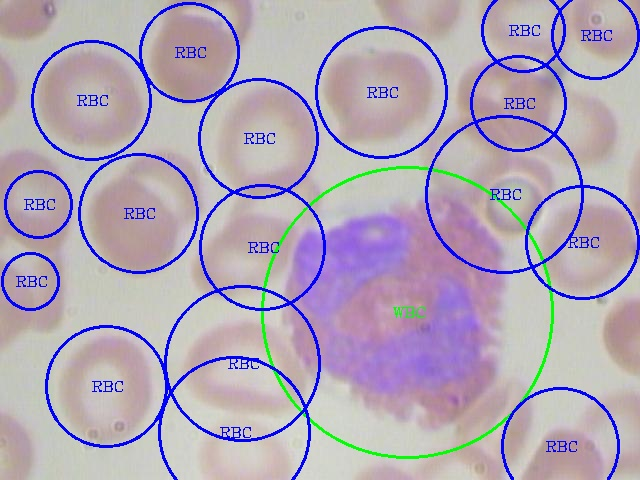RBC: (176, 311, 310, 419), (207, 76, 325, 197), (48, 322, 164, 445), (316, 37, 440, 143), (30, 44, 149, 152), (79, 174, 184, 279), (450, 48, 554, 150), (532, 195, 639, 294), (187, 207, 296, 304), (414, 109, 518, 208), (515, 79, 625, 169), (142, 9, 241, 108), (1, 140, 83, 255), (465, 147, 559, 237), (187, 412, 301, 478), (564, 381, 639, 477), (475, 0, 580, 60), (117, 146, 207, 214), (516, 424, 608, 478)
WBC: (270, 192, 530, 436)
